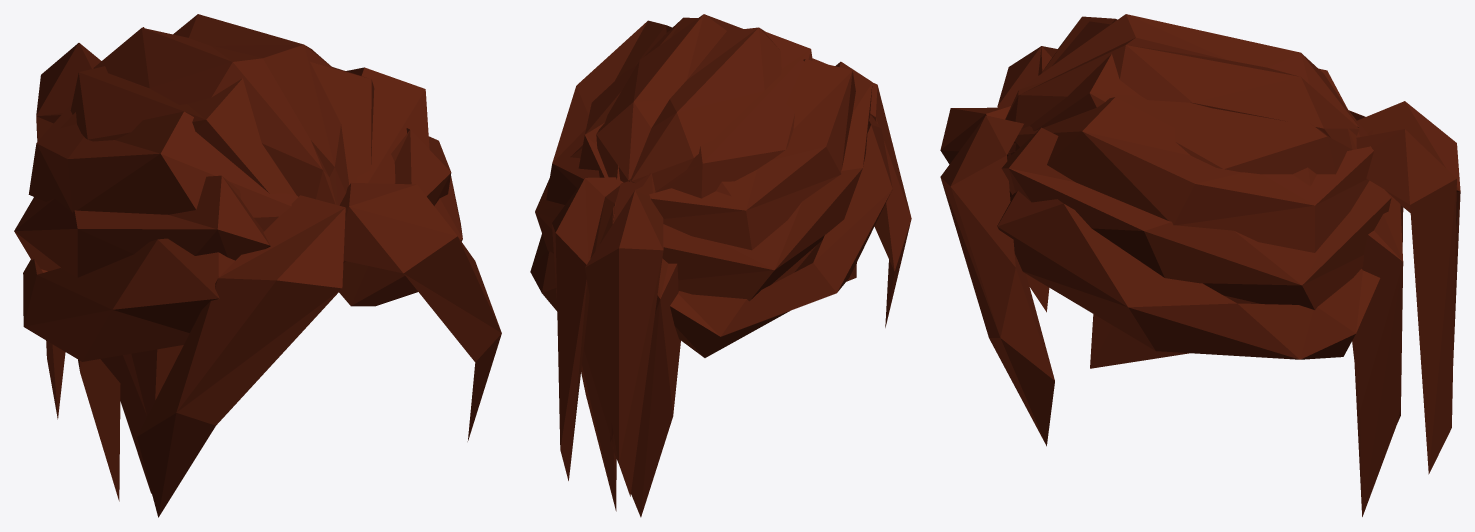
File: hair-updo.mid.c8f8b1bb.glb
The picture shows the model from 3 angles, left to right: view 1: azimuth 30°, elevation 25°; view 2: azimuth 150°, elevation 25°; view 3: azimuth 270°, elevation 25°; orthographic projection. The views are drawn at different scales.
Parts seen in each view (by area): view 1: hair-updo; view 2: hair-updo; view 3: hair-updo.
Boxes of the visible parts, x1,y1,x2,y2 form: hair-updo: (14,14,501,517); hair-updo: (530,14,911,517); hair-updo: (940,14,1460,516).
Bounding box in the file's own units: 0.2364 × 0.3188 × 0.3121.
